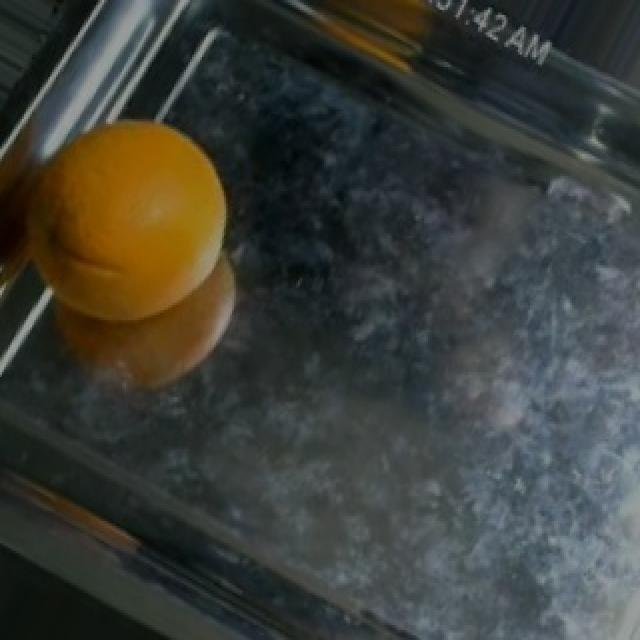Fruit: (2, 99, 254, 345)
